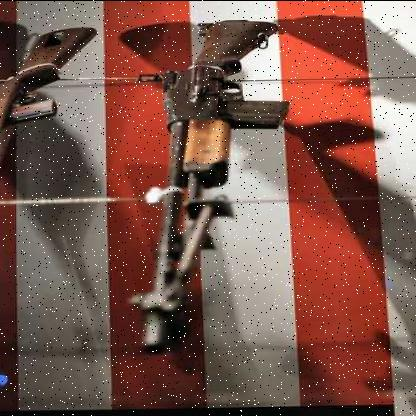rifle: (117, 15, 310, 362)
